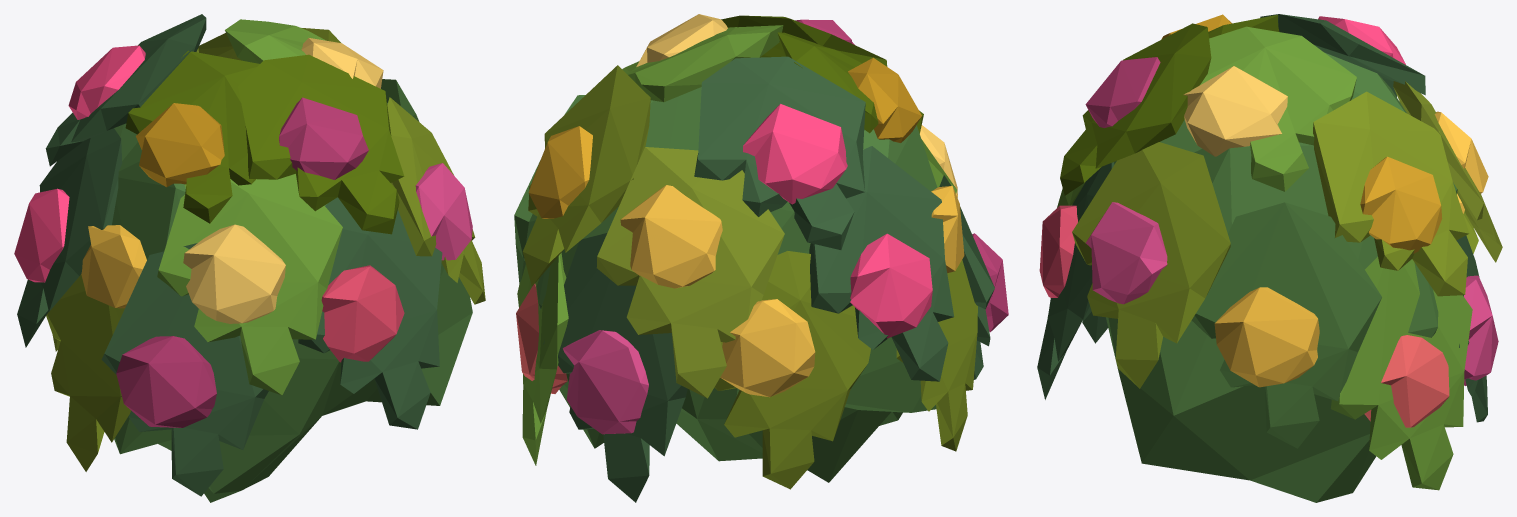
Rendered from EA_M_Env_Bush_BerryDome_01a.fbx.
The picture shows the model from 3 angles, left to right: view 1: azimuth 30°, elevation 25°; view 2: azimuth 150°, elevation 25°; view 3: azimuth 270°, elevation 25°; orthographic projection. The views are drawn at different scales.
Visible parts, largest first — view 1: EA_M_Env_Bush_BerryDome_01a_LOD0; view 2: EA_M_Env_Bush_BerryDome_01a_LOD0; view 3: EA_M_Env_Bush_BerryDome_01a_LOD0.
Part boxes in pixels (<box>): EA_M_Env_Bush_BerryDome_01a_LOD0: <box>14,14,485,502</box>; EA_M_Env_Bush_BerryDome_01a_LOD0: <box>514,14,1008,502</box>; EA_M_Env_Bush_BerryDome_01a_LOD0: <box>1037,14,1502,502</box>.
Size of what is drawn, in the model's own units: 1.92 by 1.95 by 1.84.
